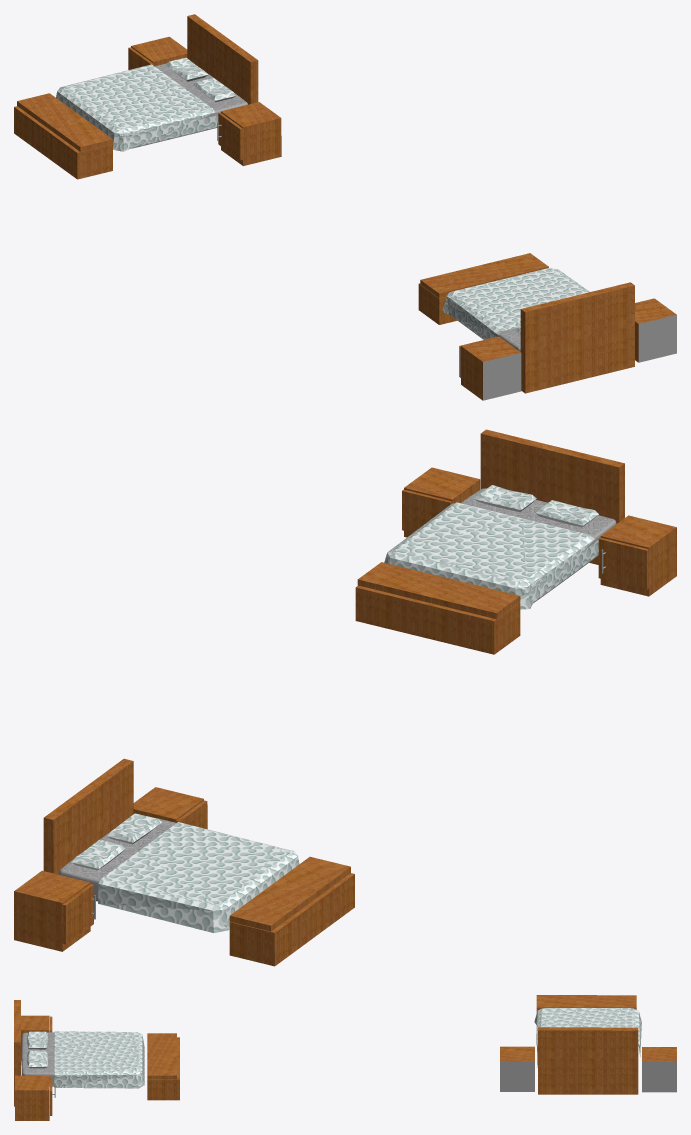
Rendered from 2bhk bed.gltf.
3 views of the same model, one above another, from view 1: azimuth 30°, elevation 25°; view 2: azimuth 150°, elevation 25°; view 3: azimuth 270°, elevation 25° (orthographic). The views are drawn at different scales.
Visible parts, largest first — view 1: SketchUp; view 2: SketchUp; view 3: SketchUp.
Part boxes in pixels (x1,y1,x2,y2): SketchUp: [14, 14, 676, 400]; SketchUp: [14, 429, 676, 966]; SketchUp: [14, 995, 676, 1120].
Bounding box in the file's own units: 2.96 × 0.9255 × 7.98.
5 materials, 4 textured.
